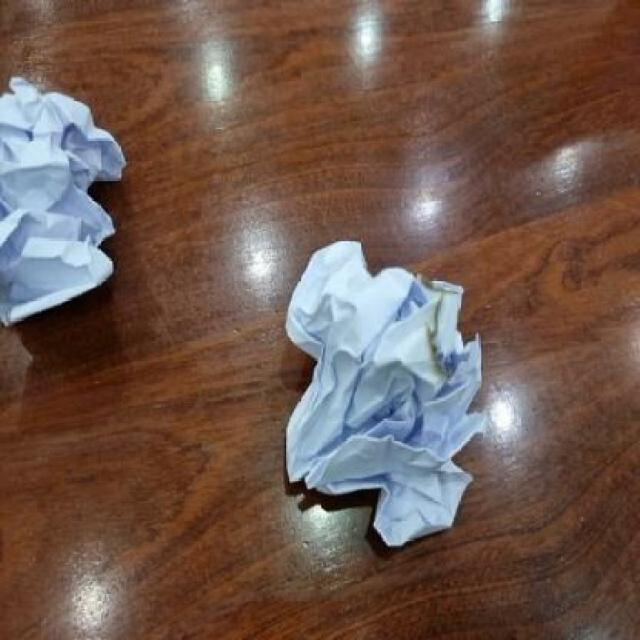trash: (274, 230, 503, 556), (0, 44, 129, 362)
